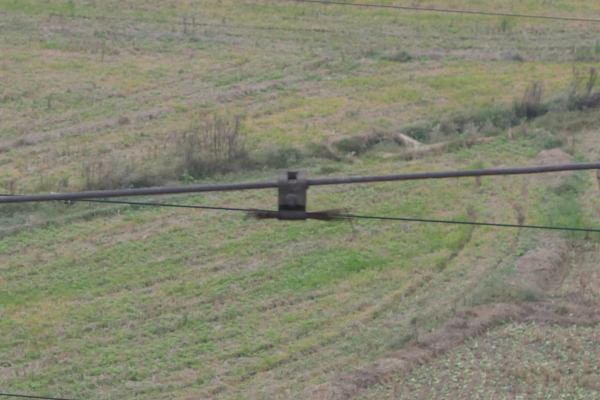damper_defect: (239, 165, 353, 225)
